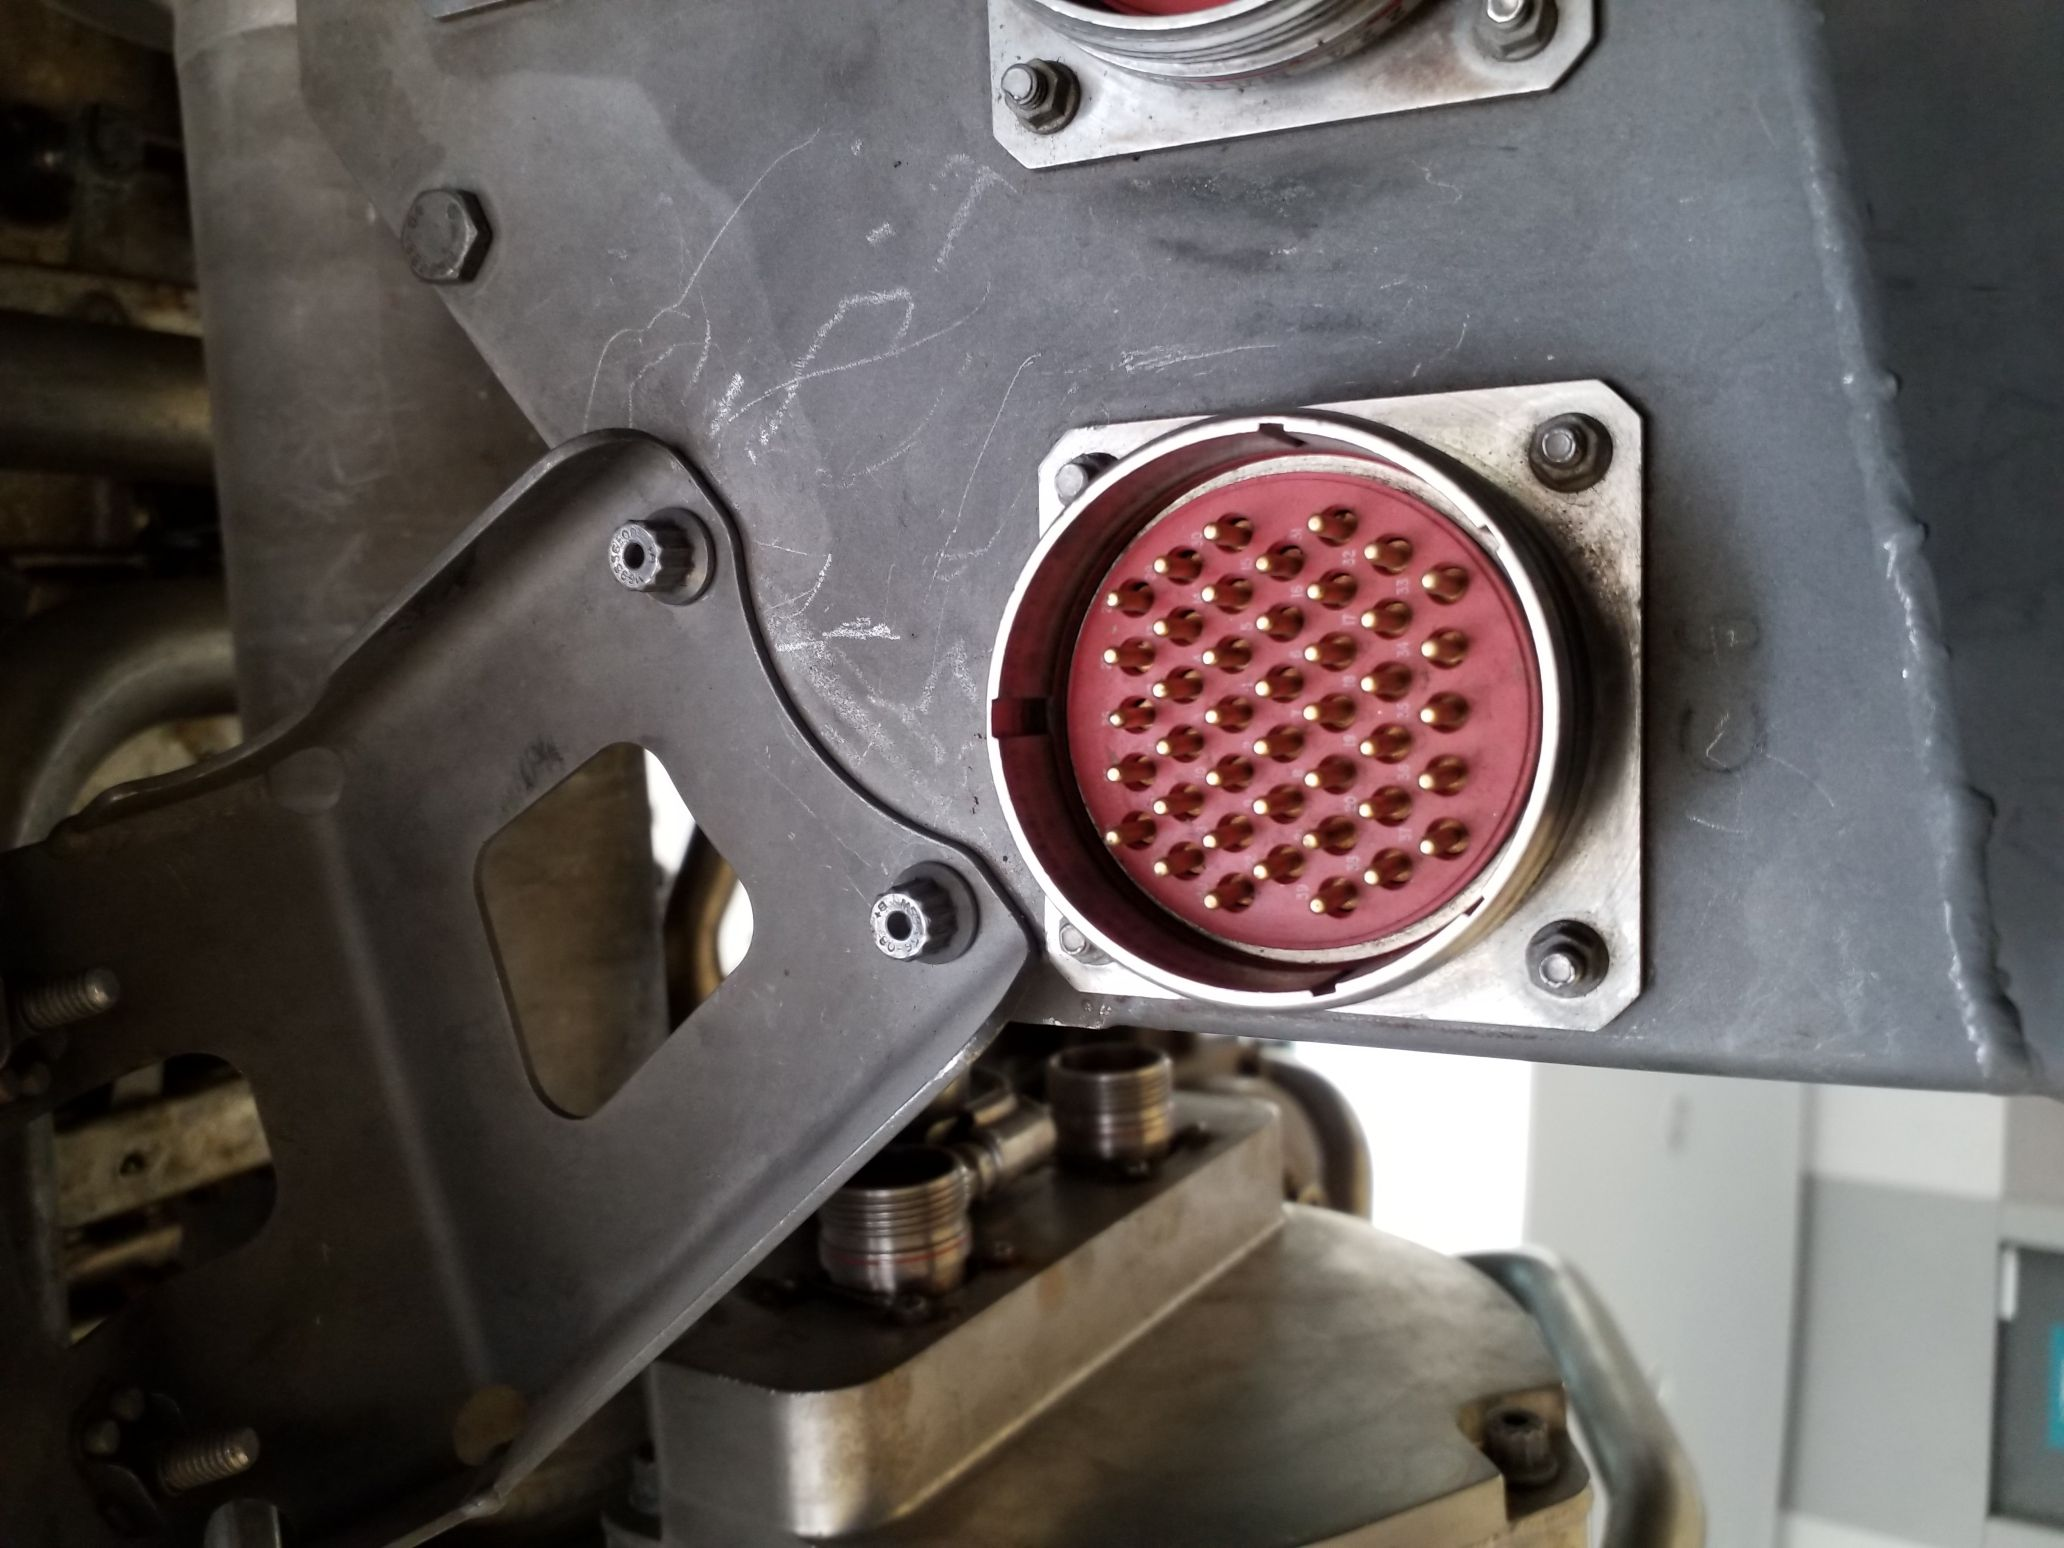outlet: (985, 407, 1585, 1015)
